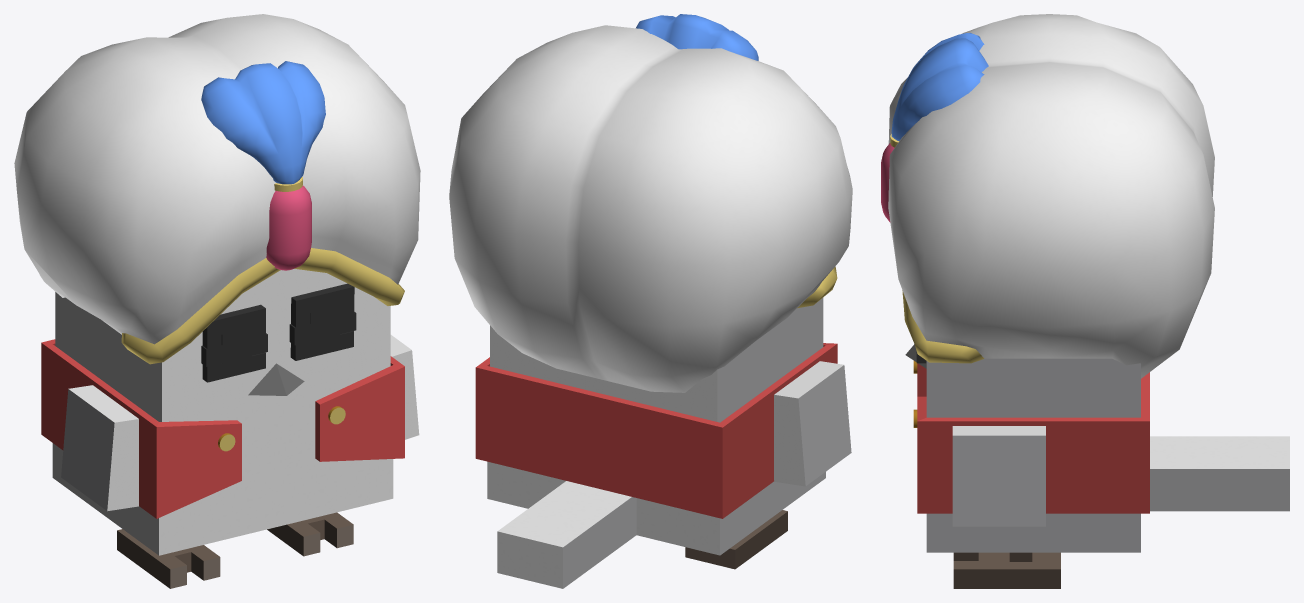
The picture shows the model from 3 angles, left to right: view 1: azimuth 30°, elevation 25°; view 2: azimuth 150°, elevation 25°; view 3: azimuth 270°, elevation 25°; orthographic projection.
Visible parts, largest first — view 1: Ch_15_Head, Ch_15, Ch_15_Wing_L, Ch_15_Leg_L, Ch_15_Eye_01, Ch_15_Leg_R, Ch_15_Eye_03_R, Ch_15_Eye_03_L, Ch_15_Eye_02, Ch_15_Wing_R; view 2: Ch_15_Head, Ch_15, Ch_15_Wing_L, Ch_15_Leg_L; view 3: Ch_15_Head, Ch_15, Ch_15_Wing_R, Ch_15_Leg_R.
Boxes of the visible parts, left/top/right/bottom form: Ch_15_Head: left=14, top=14, right=420, bottom=421; Ch_15: left=41, top=339, right=404, bottom=555; Ch_15_Wing_L: left=61, top=385, right=138, bottom=511; Ch_15_Leg_L: left=117, top=529, right=220, bottom=588; Ch_15_Eye_01: left=221, top=296, right=340, bottom=372; Ch_15_Leg_R: left=267, top=512, right=353, bottom=556; Ch_15_Eye_03_R: left=290, top=283, right=354, bottom=360; Ch_15_Eye_03_L: left=202, top=304, right=265, bottom=382; Ch_15_Eye_02: left=201, top=312, right=356, bottom=366; Ch_15_Wing_R: left=390, top=335, right=419, bottom=439; Ch_15_Head: left=449, top=14, right=852, bottom=422; Ch_15: left=475, top=343, right=837, bottom=588; Ch_15_Wing_L: left=774, top=361, right=851, bottom=486; Ch_15_Leg_L: left=685, top=510, right=787, bottom=569; Ch_15_Head: left=881, top=14, right=1214, bottom=417; Ch_15: left=913, top=361, right=1289, bottom=552; Ch_15_Wing_R: left=952, top=426, right=1045, bottom=526; Ch_15_Leg_R: left=953, top=552, right=1060, bottom=588.
Size of the model in its own units: 10.07 by 13.57 by 10.04.
